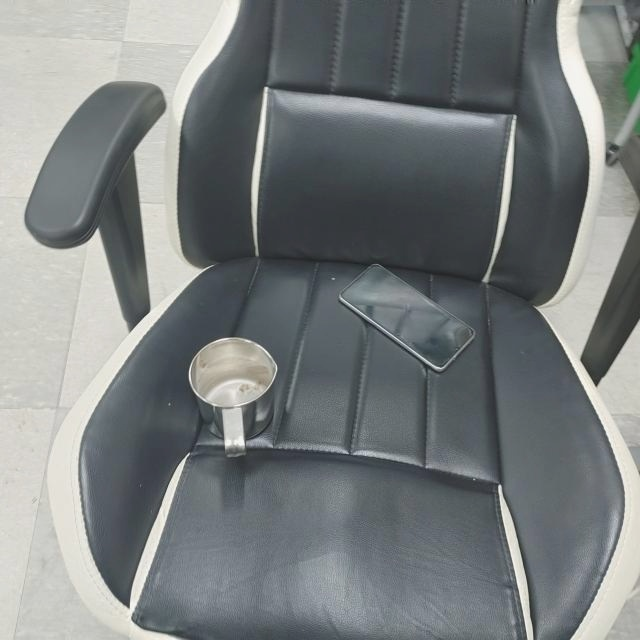cup: (187, 333, 280, 458)
phone: (339, 261, 475, 372)
